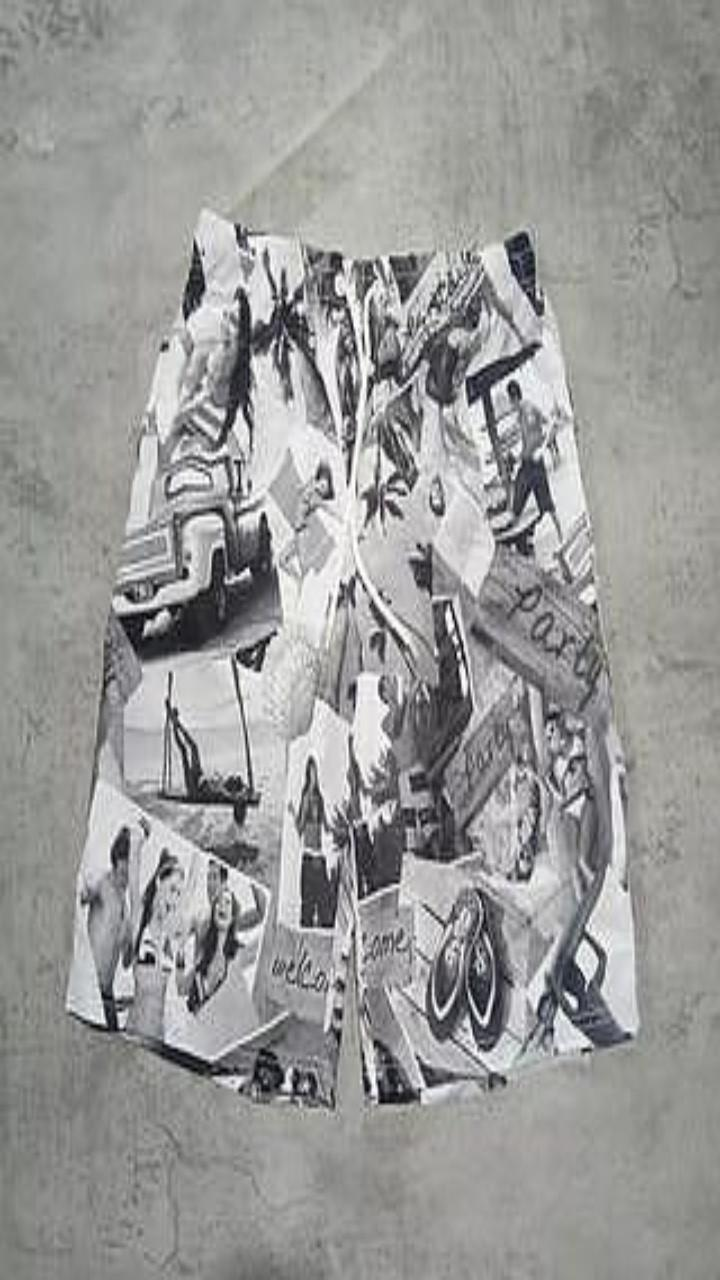Shorts: (67, 212, 637, 1103)
